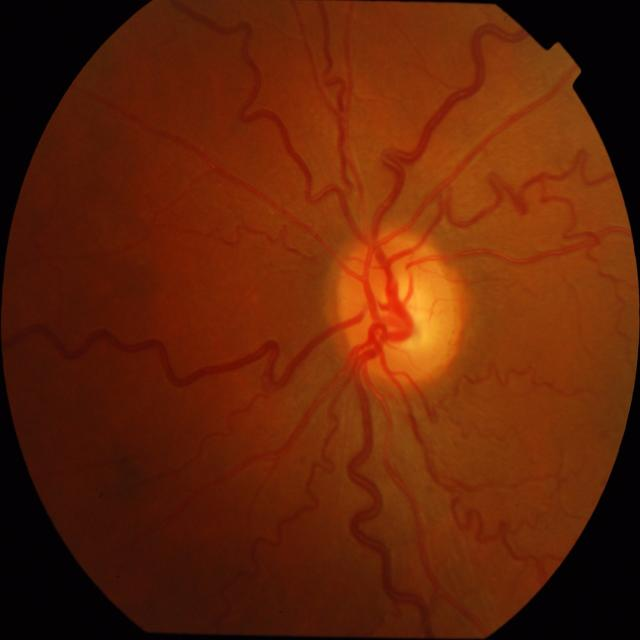OC: (367, 270, 439, 354)
OD: (336, 227, 462, 387)
